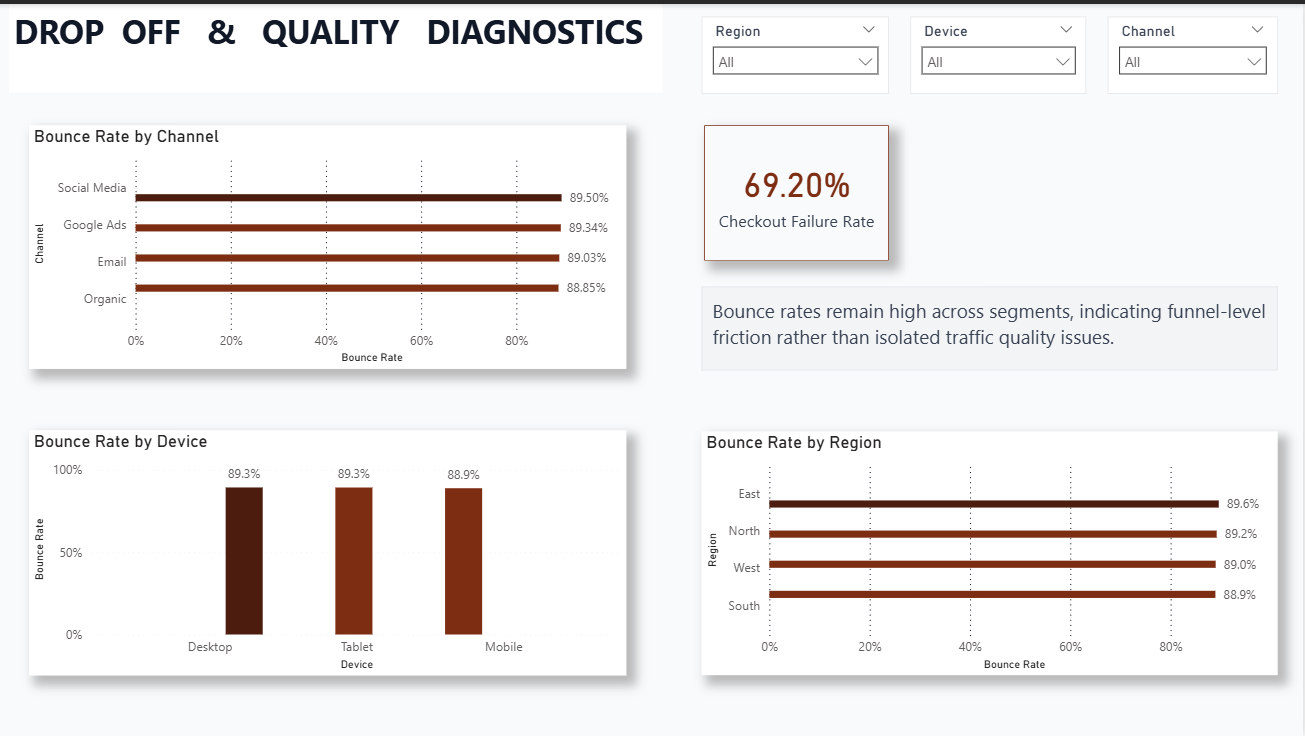

What the dashboard file says about the page in this screenshot:
{"tool":"powerbi","page":{"name":"Page 2","canvas":[1280,720],"ordinal":1},"visuals":[{"type":"textbox","box":[9.8,0,641.7,87.1],"z":0},{"type":"textbox","box":[689.6,277.3,565.6,82.2],"z":1000},{"type":"card","fields":{"Values":["session_level.Checkout Failure Rate"]},"box":[692,119,181.6,132.5],"z":2000},{"type":"slicer","fields":{"Values":["session_level.channel"]},"box":[1088.3,12.3,166.9,76.1],"z":3000},{"type":"slicer","fields":{"Values":["session_level.device"]},"box":[894.5,12.3,173,76.1],"z":4000},{"type":"slicer","fields":{"Values":["session_level.region"]},"box":[689.6,12.3,184.1,76.1],"z":5000},{"type":"clusteredBarChart","title":"Bounce Rate by Channel","fields":{"Category":["session_level.channel"],"Y":["session_level.Session Bounce Rate"],"Series":["public bounce_by_channel.bounce_rate"]},"box":[29.4,119,586.5,239.3],"z":6000},{"type":"clusteredColumnChart","title":"Bounce Rate by Device","fields":{"Category":["session_level.device"],"Y":["session_level.Session Bounce Rate"],"Series":["public bounce_by_device.bounce_rate"]},"box":[29.4,418.4,586.5,240.5],"z":7000},{"type":"clusteredBarChart","title":"Bounce Rate by Region","fields":{"Category":["session_level.region"],"Y":["session_level.Session Bounce Rate"],"Series":["public bounce_by_region.bounce_rate"]},"box":[689.6,419.6,565.6,239.3],"z":8000}]}

Visuals, with their boxes in screenshot pixels (x1, y1, x2, y2), scaled from the page's 1280x720 canvas onto the 1305x736 screenshot:
textbox: <bbox>10, 0, 664, 89</bbox>
textbox: <bbox>703, 283, 1280, 367</bbox>
card - session_level.Checkout Failure Rate: <bbox>706, 122, 891, 257</bbox>
slicer - session_level.channel: <bbox>1110, 13, 1280, 90</bbox>
slicer - session_level.device: <bbox>912, 13, 1088, 90</bbox>
slicer - session_level.region: <bbox>703, 13, 891, 90</bbox>
"Bounce Rate by Channel" clusteredBarChart: <bbox>30, 122, 628, 366</bbox>
"Bounce Rate by Device" clusteredColumnChart: <bbox>30, 428, 628, 674</bbox>
"Bounce Rate by Region" clusteredBarChart: <bbox>703, 429, 1280, 674</bbox>
